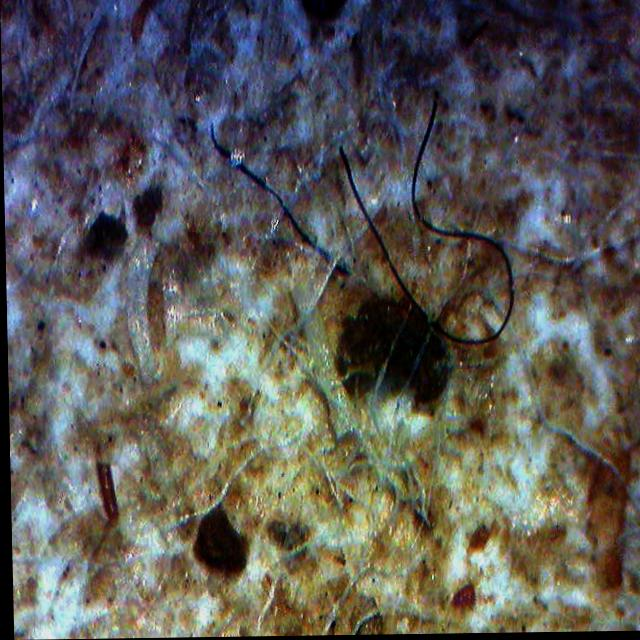microplastic: (338, 91, 513, 346), (210, 124, 348, 275)
